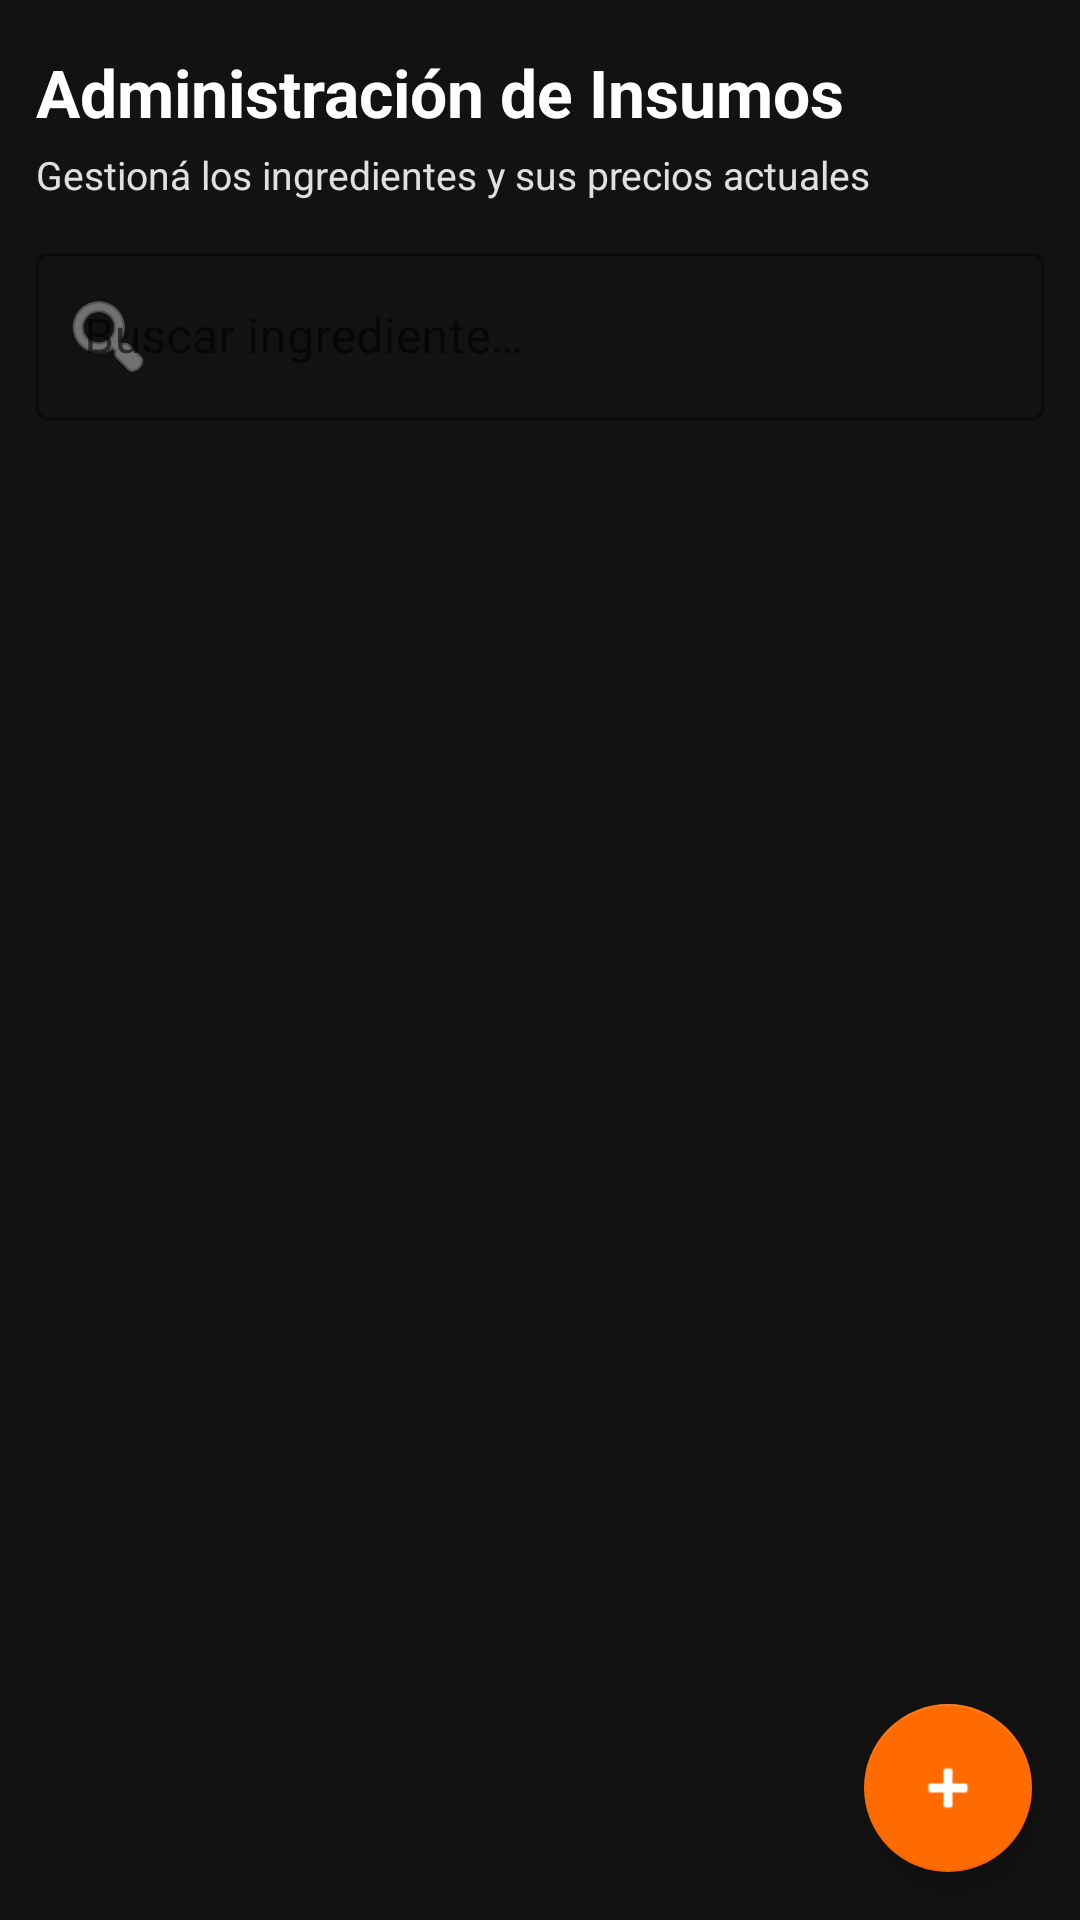

Icons on this 1080px x 1920px Android screen, each with the point to tap as (x=x, y=y):
Cargar nuevo ingrediente: (x=948, y=1788)
